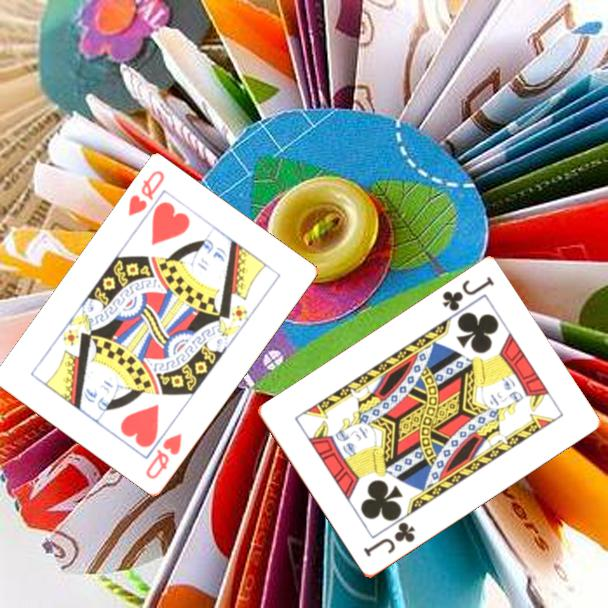c11: (438, 273, 497, 315), (360, 519, 418, 560)
h12: (124, 167, 168, 220), (142, 430, 185, 483)
